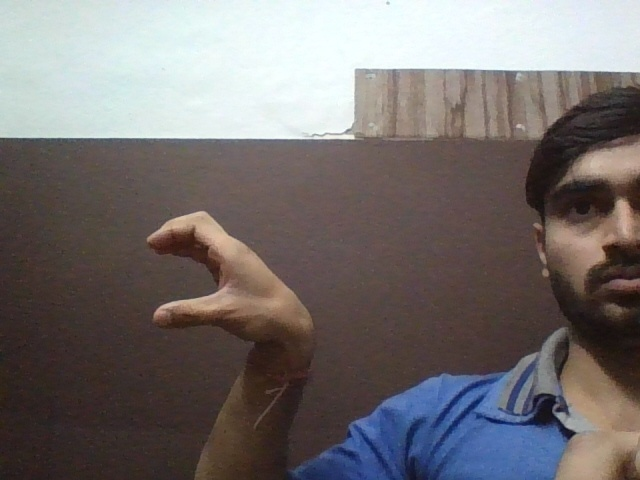C: (130, 201, 299, 359)
